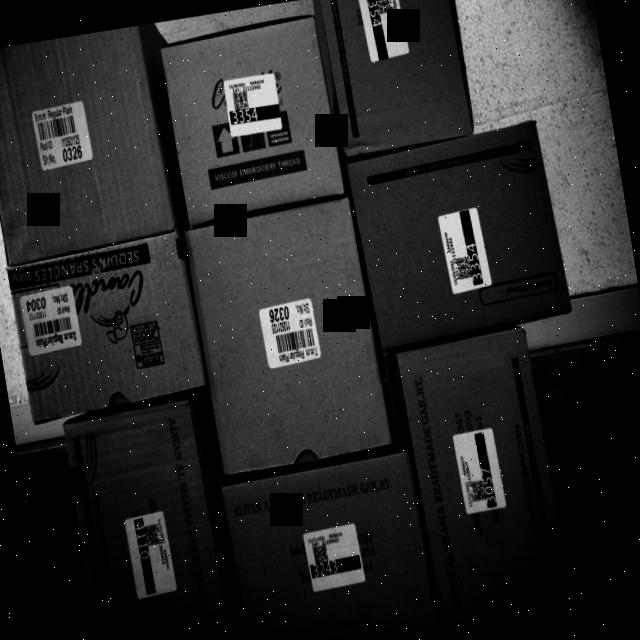box: (183, 200, 398, 477), (342, 122, 578, 358), (394, 328, 574, 618), (0, 23, 180, 263), (153, 10, 348, 224), (220, 453, 435, 640), (5, 233, 208, 427), (315, 0, 475, 162), (182, 496, 188, 498)
